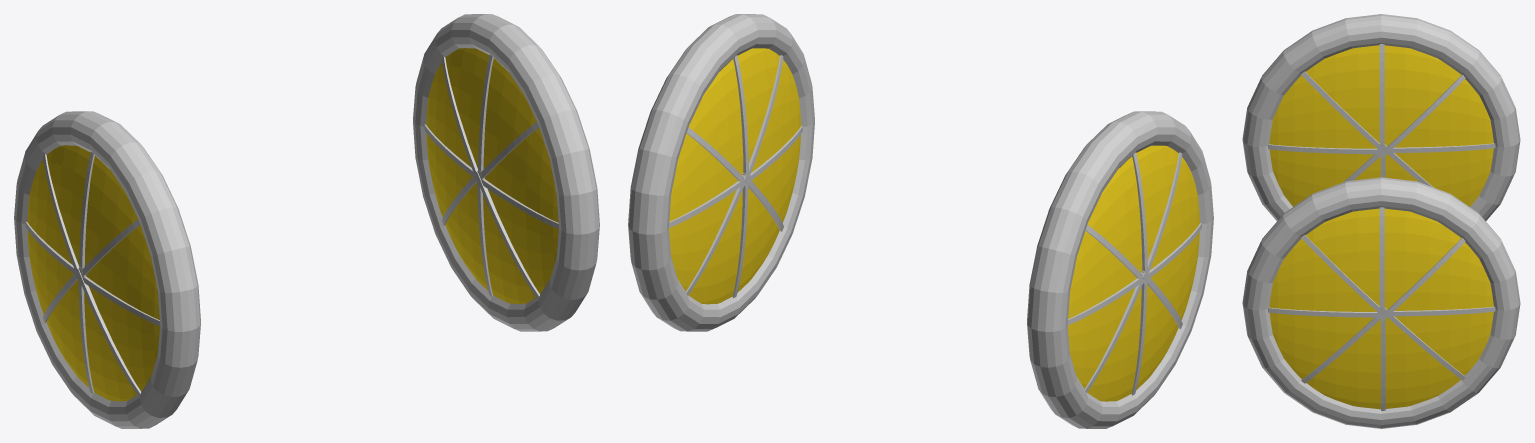
The model's file is tinker.obj.
3 views of the same model, side by side, from view 1: azimuth 30°, elevation 25°; view 2: azimuth 150°, elevation 25°; view 3: azimuth 270°, elevation 25° (orthographic). The views are drawn at different scales.
Visible parts, largest first — view 1: group_0_2829873, group_0_16768282; view 2: group_0_2829873, group_0_16768282; view 3: group_0_16768282, group_0_2829873.
Part boxes in pixels (left/top/right/bottom): group_0_2829873: left=14, top=14, right=599, bottom=428; group_0_16768282: left=27, top=48, right=558, bottom=401; group_0_2829873: left=628, top=14, right=1213, bottom=428; group_0_16768282: left=669, top=48, right=1199, bottom=401; group_0_16768282: left=1269, top=45, right=1493, bottom=409; group_0_2829873: left=1242, top=14, right=1520, bottom=428.
Bounding box in the file's own units: 17.72 × 11.05 × 11.22.
